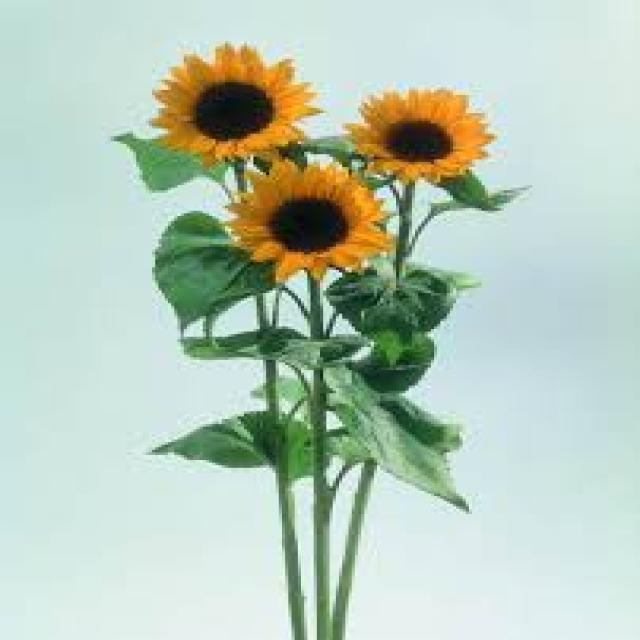sunflower: (212, 152, 400, 290), (146, 35, 330, 168), (344, 76, 512, 187)
